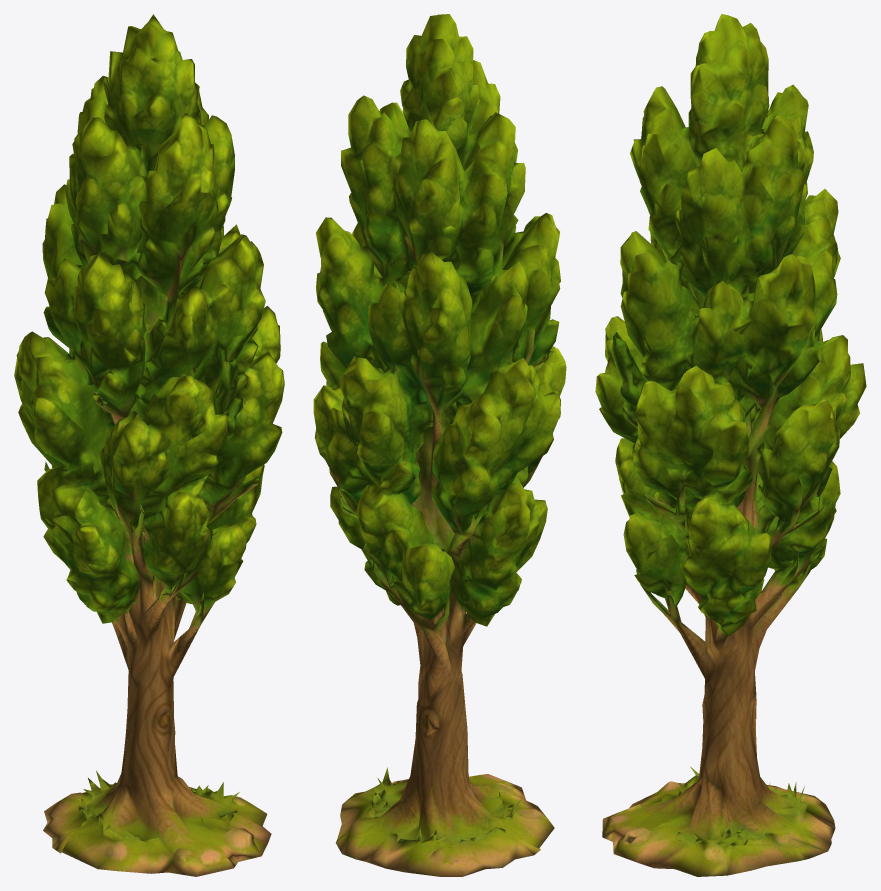
The model's file is kit_izmir_poplar.glb.
The picture shows the model from 3 angles, left to right: view 1: azimuth 30°, elevation 25°; view 2: azimuth 150°, elevation 25°; view 3: azimuth 270°, elevation 25°; orthographic projection.
Visible parts, largest first — view 1: Mesh1.0; view 2: Mesh1.0; view 3: Mesh1.0.
Boxes of the visible parts, bbox=[...] form: Mesh1.0: bbox=[14, 14, 284, 876]; Mesh1.0: bbox=[313, 14, 566, 876]; Mesh1.0: bbox=[595, 14, 866, 876].
Bounding box in the file's own units: 3.35 × 11 × 3.33.
Materials: 1 (1 with a texture image).
